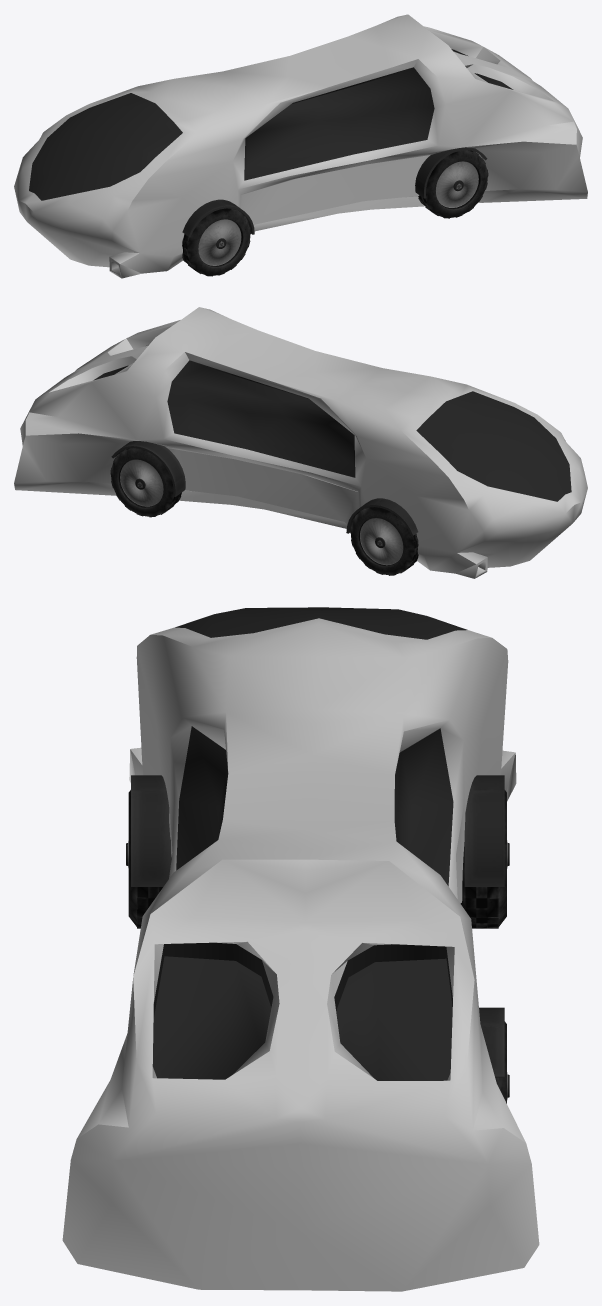
File: CocheBlanco.fbx
3 views of the same model, one above another, from view 1: azimuth 30°, elevation 25°; view 2: azimuth 150°, elevation 25°; view 3: azimuth 270°, elevation 25° (orthographic). The views are drawn at different scales.
Parts seen in each view (by area): view 1: CocheLargo.001; view 2: CocheLargo.001; view 3: CocheLargo.001.
Boxes of the visible parts, x1,y1,x2,y2 form: CocheLargo.001: [14, 14, 587, 278]; CocheLargo.001: [14, 307, 587, 578]; CocheLargo.001: [62, 607, 539, 1291].
Size of the model in its own units: 1847 by 579 by 748.
3 materials, 1 textured.
